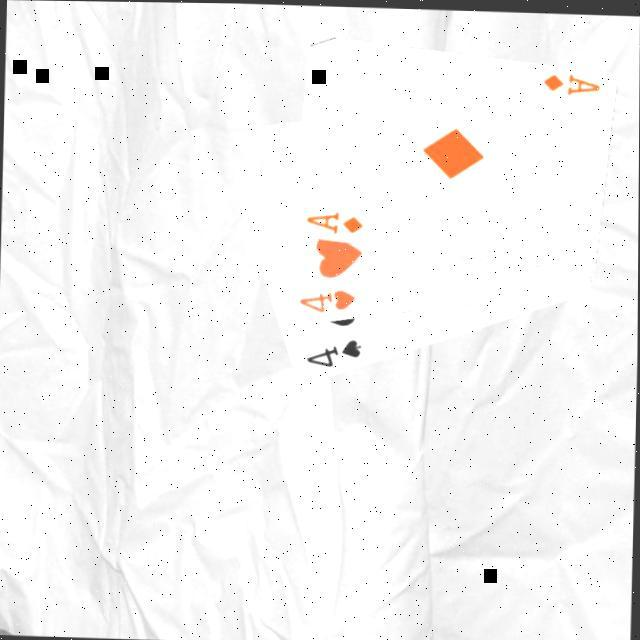4H: (294, 282, 356, 314)
4S: (300, 331, 363, 369)
AD: (301, 204, 363, 234), (538, 66, 600, 96)
